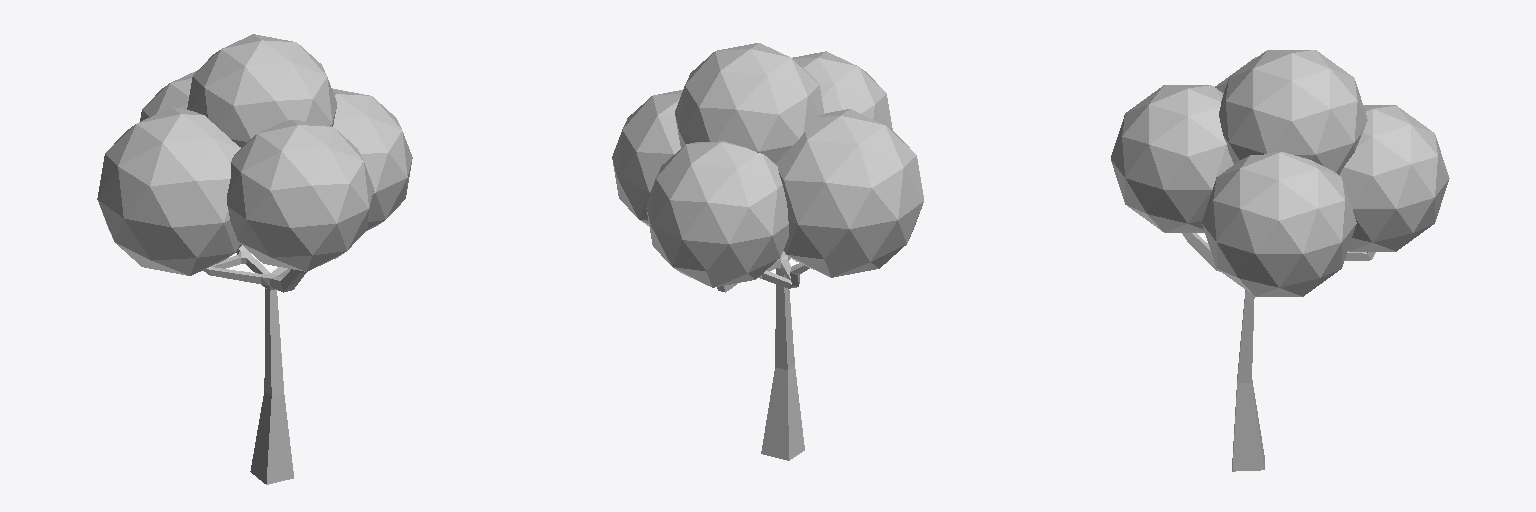
File: arvore.obj
3 renders of one model, left to right at view 1: azimuth 30°, elevation 25°; view 2: azimuth 150°, elevation 25°; view 3: azimuth 270°, elevation 25°, orthographic.
Visible parts, largest first — view 1: folhas, tronco; view 2: folhas, tronco; view 3: folhas, tronco.
Part boxes in pixels (left/top/right/bottom): folhas: left=97, top=34, right=412, bottom=275; tronco: left=203, top=245, right=306, bottom=484; folhas: left=612, top=43, right=923, bottom=287; tronco: left=717, top=251, right=809, bottom=460; folhas: left=1111, top=50, right=1449, bottom=296; tronco: left=1182, top=233, right=1375, bottom=471.
Bounding box in the file's own units: 9.17 × 12.65 × 9.33.